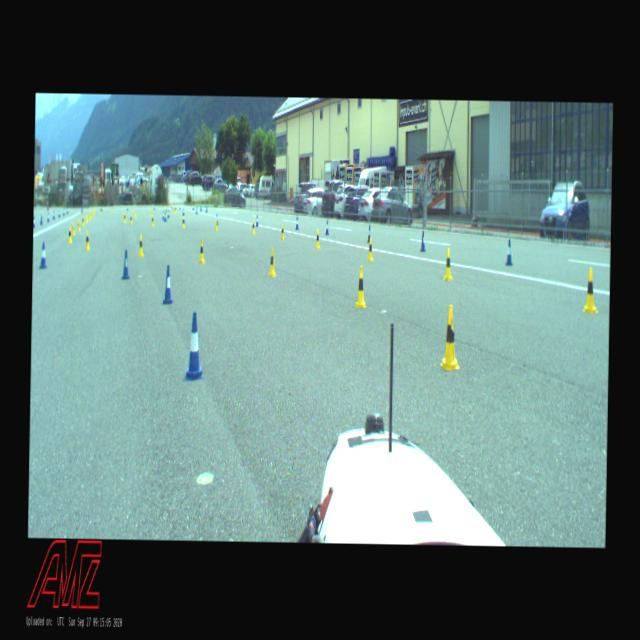blue_cone: (186, 312, 203, 381), (162, 264, 172, 304), (120, 249, 130, 279), (505, 238, 512, 266), (40, 241, 46, 268), (420, 230, 426, 251), (367, 225, 371, 242), (324, 220, 328, 234), (295, 216, 298, 229), (255, 214, 258, 226), (164, 212, 167, 222), (195, 206, 198, 214), (32, 216, 34, 228), (216, 213, 218, 224), (182, 208, 185, 215), (40, 214, 42, 224), (47, 212, 49, 221), (53, 210, 55, 219), (162, 210, 164, 219), (167, 210, 169, 218), (200, 205, 202, 211), (59, 210, 60, 217)
yellow_cone: (440, 305, 460, 370), (582, 267, 598, 312), (355, 264, 366, 308), (443, 248, 453, 280), (268, 247, 276, 276), (366, 236, 374, 262), (198, 238, 205, 264), (138, 234, 144, 256), (84, 230, 90, 250), (315, 228, 320, 248), (67, 226, 72, 242), (280, 223, 284, 239), (251, 220, 255, 233), (215, 218, 218, 230), (77, 218, 80, 230), (129, 214, 132, 224), (182, 215, 184, 227), (151, 214, 153, 226), (72, 222, 74, 234), (173, 206, 176, 213), (124, 212, 126, 222), (82, 216, 84, 226), (85, 214, 87, 223), (171, 206, 173, 212), (175, 205, 176, 212), (150, 208, 150, 216)
